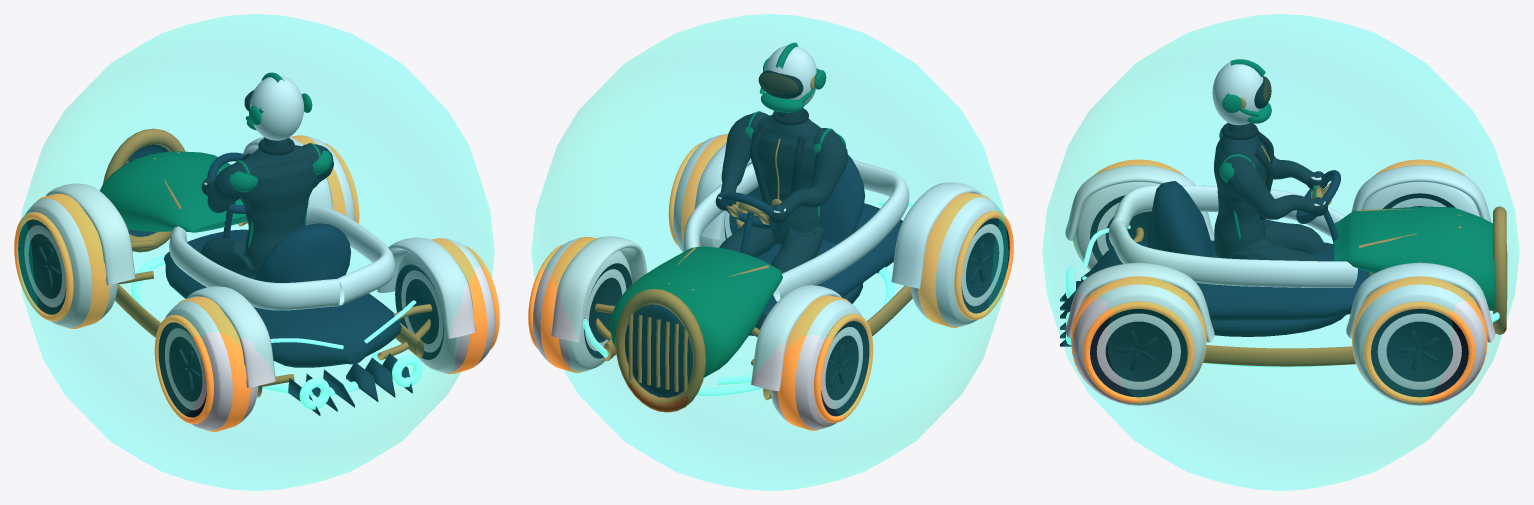
File: collective.glb
3 renders of one model, left to right at view 1: azimuth 30°, elevation 25°; view 2: azimuth 150°, elevation 25°; view 3: azimuth 270°, elevation 25°, orthographic.
Parts seen in each view (by area): view 1: collective:aegis-shield, collective:coachwork-batch.001, collective:coachwork-batch, collective:sculpted-coachwork, collective:torso, collective:coachwork-batch.002, collective:rounded-wheel-shell, collective:rounded-wheel-shell.002, collective:rounded-wheel-shell.003, collective:helmet-shell, collective:translucent-tire-band.002, collective:translucent-tire-band (+14 smaller); view 2: collective:aegis-shield, collective:coachwork-batch.001, collective:sculpted-coachwork, collective:coachwork-batch, collective:coachwork-batch.002, collective:torso, collective:rounded-wheel-shell, collective:rounded-wheel-shell.002, collective:rounded-wheel-shell.001, collective:arm-l-mesh, collective:translucent-tire-band, collective:translucent-tire-band.002 (+17 smaller); view 3: collective:aegis-shield, collective:coachwork-batch.001, collective:coachwork-batch, collective:sculpted-coachwork, collective:torso, collective:rounded-wheel-shell.001, collective:rounded-wheel-shell.003, collective:coachwork-batch.002, collective:recessed-colored-hub.003, collective:recessed-colored-hub.001, collective:arm-r-mesh, collective:wheel-light-ring.003 (+9 smaller).
Boxes of the visible parts, x1,y1,x2,y2 form: collective:aegis-shield: (17,14,494,490); collective:coachwork-batch.001: (46,136,475,387); collective:coachwork-batch: (127,144,412,415); collective:sculpted-coachwork: (99,151,247,232); collective:torso: (200,137,317,277); collective:coachwork-batch.002: (102,128,432,397); collective:rounded-wheel-shell: (24,198,117,327); collective:rounded-wheel-shell.002: (165,301,258,430); collective:rounded-wheel-shell.003: (396,238,494,372); collective:helmet-shell: (249,75,304,140); collective:translucent-tire-band.002: (177,296,250,431); collective:translucent-tire-band: (37,193,110,328); collective:aegis-shield: (531,14,1008,490); collective:coachwork-batch.001: (551,142,981,391); collective:sculpted-coachwork: (610,246,782,377); collective:coachwork-batch: (625,154,902,397); collective:coachwork-batch.002: (595,202,912,412); collective:torso: (719,108,825,273); collective:rounded-wheel-shell: (770,300,862,429); collective:rounded-wheel-shell.002: (910,197,1003,326); collective:rounded-wheel-shell.001: (533,237,631,371); collective:arm-l-mesh: (772,128,847,215); collective:translucent-tire-band: (777,295,850,430); collective:translucent-tire-band.002: (918,192,991,327); collective:aegis-shield: (1042,14,1519,490); collective:coachwork-batch.001: (1065,165,1495,342); collective:coachwork-batch: (1060,181,1369,346); collective:sculpted-coachwork: (1334,206,1496,310); collective:torso: (1214,123,1327,261); collective:rounded-wheel-shell.001: (1353,284,1486,405); collective:rounded-wheel-shell.003: (1072,284,1205,405); collective:coachwork-batch.002: (1133,206,1507,366); collective:recessed-colored-hub.003: (1090,308,1187,397); collective:recessed-colored-hub.001: (1371,308,1468,397); collective:arm-r-mesh: (1223,152,1324,219); collective:wheel-light-ring.003: (1083,301,1194,403).
Size of the model in its own units: 4.3 by 4.3 by 4.3.
